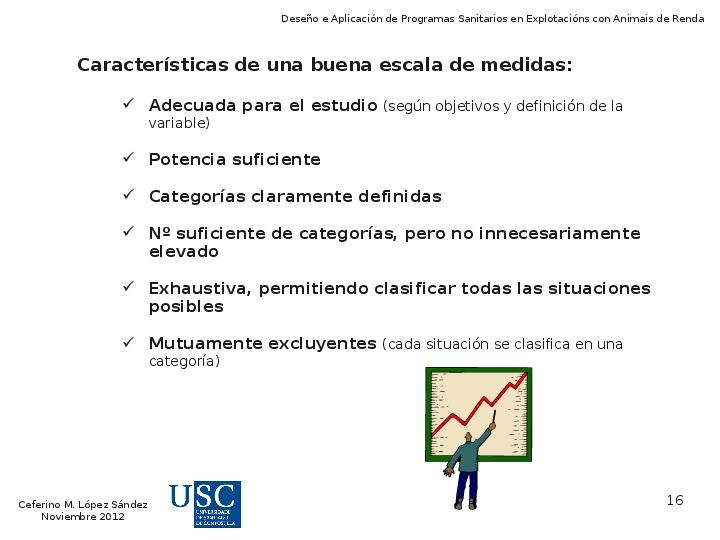paragraph: (116, 86, 676, 378)
subtitle: (12, 455, 275, 532), (67, 53, 618, 80)
title: (274, 6, 718, 35)
